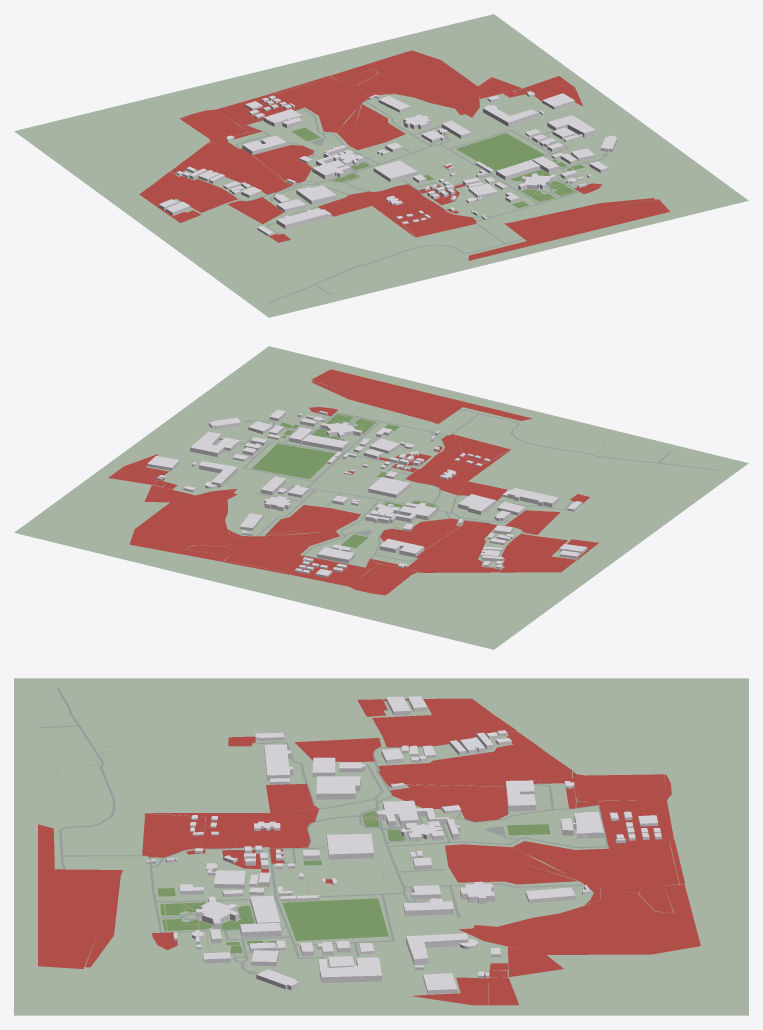
Rendered from campus.glb.
3 views of the same model, one above another, from view 1: azimuth 30°, elevation 25°; view 2: azimuth 150°, elevation 25°; view 3: azimuth 270°, elevation 25° (orthographic). The views are drawn at different scales.
Parts seen in each view (by area): view 1: ground_plane, restricted_Restricted_Zone_16, restricted_Restricted_Zone_26, restricted_Restricted_Zone_39, area_Amrita_Playground, restricted_Restricted_Zone_32, restricted_Restricted_Zone_5, restricted_Restricted_Zone_11, restricted_Restricted_Zone_14, restricted_Restricted_Zone_52, restricted_Restricted_Zone_17, restricted_Restricted_Zone_13 (+14 smaller); view 2: ground_plane, restricted_Restricted_Zone_16, restricted_Restricted_Zone_26, restricted_Restricted_Zone_39, area_Amrita_Playground, restricted_Restricted_Zone_32, restricted_Restricted_Zone_5, restricted_Restricted_Zone_11, restricted_Restricted_Zone_14, restricted_Restricted_Zone_17, restricted_Restricted_Zone_52, restricted_Restricted_Zone_13 (+14 smaller); view 3: ground_plane, restricted_Restricted_Zone_16, restricted_Restricted_Zone_26, restricted_Restricted_Zone_39, area_Amrita_Playground, restricted_Restricted_Zone_32, restricted_Restricted_Zone_11, restricted_Restricted_Zone_5, restricted_Restricted_Zone_14, restricted_Restricted_Zone_17, restricted_Restricted_Zone_52, restricted_Restricted_Zone_13 (+33 smaller).
Part boxes in pixels (bbox=[...]): ground_plane: bbox=[14, 14, 748, 317]; restricted_Restricted_Zone_16: bbox=[359, 50, 479, 117]; restricted_Restricted_Zone_26: bbox=[179, 141, 313, 194]; restricted_Restricted_Zone_39: bbox=[504, 199, 669, 241]; area_Amrita_Playground: bbox=[456, 133, 544, 171]; restricted_Restricted_Zone_32: bbox=[153, 172, 237, 212]; restricted_Restricted_Zone_5: bbox=[372, 184, 432, 237]; restricted_Restricted_Zone_11: bbox=[350, 104, 405, 149]; restricted_Restricted_Zone_14: bbox=[303, 84, 362, 128]; restricted_Restricted_Zone_52: bbox=[181, 109, 247, 139]; restricted_Restricted_Zone_17: bbox=[216, 94, 301, 126]; restricted_Restricted_Zone_13: bbox=[277, 77, 346, 106]; ground_plane: bbox=[14, 346, 748, 649]; restricted_Restricted_Zone_16: bbox=[130, 489, 247, 549]; restricted_Restricted_Zone_26: bbox=[380, 521, 496, 572]; restricted_Restricted_Zone_39: bbox=[311, 369, 462, 423]; area_Amrita_Playground: bbox=[252, 443, 335, 479]; restricted_Restricted_Zone_32: bbox=[500, 534, 567, 572]; restricted_Restricted_Zone_5: bbox=[406, 449, 511, 487]; restricted_Restricted_Zone_11: bbox=[265, 505, 360, 535]; restricted_Restricted_Zone_14: bbox=[226, 531, 324, 556]; restricted_Restricted_Zone_17: bbox=[290, 555, 370, 586]; restricted_Restricted_Zone_52: bbox=[349, 563, 412, 594]; restricted_Restricted_Zone_13: bbox=[225, 550, 298, 572]; ground_plane: bbox=[14, 678, 748, 1015]; restricted_Restricted_Zone_16: bbox=[459, 887, 699, 954]; restricted_Restricted_Zone_26: bbox=[378, 741, 572, 821]; restricted_Restricted_Zone_39: bbox=[38, 869, 122, 968]; area_Amrita_Playground: bbox=[282, 898, 388, 940]; restricted_Restricted_Zone_32: bbox=[372, 712, 516, 747]; restricted_Restricted_Zone_11: bbox=[445, 844, 578, 884]; restricted_Restricted_Zone_5: bbox=[144, 813, 310, 848]; restricted_Restricted_Zone_14: bbox=[521, 848, 642, 893]; restricted_Restricted_Zone_17: bbox=[598, 800, 673, 846]; restricted_Restricted_Zone_52: bbox=[577, 774, 666, 800]; restricted_Restricted_Zone_13: bbox=[614, 843, 678, 885].
Bounding box in the file's own units: 1661 × 13.61 × 1529.
